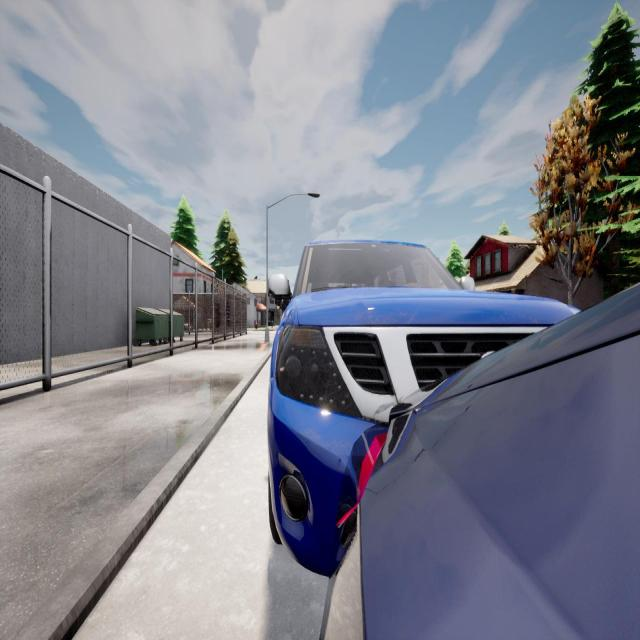Vehicle: (328, 275, 640, 638), (268, 242, 580, 575)
